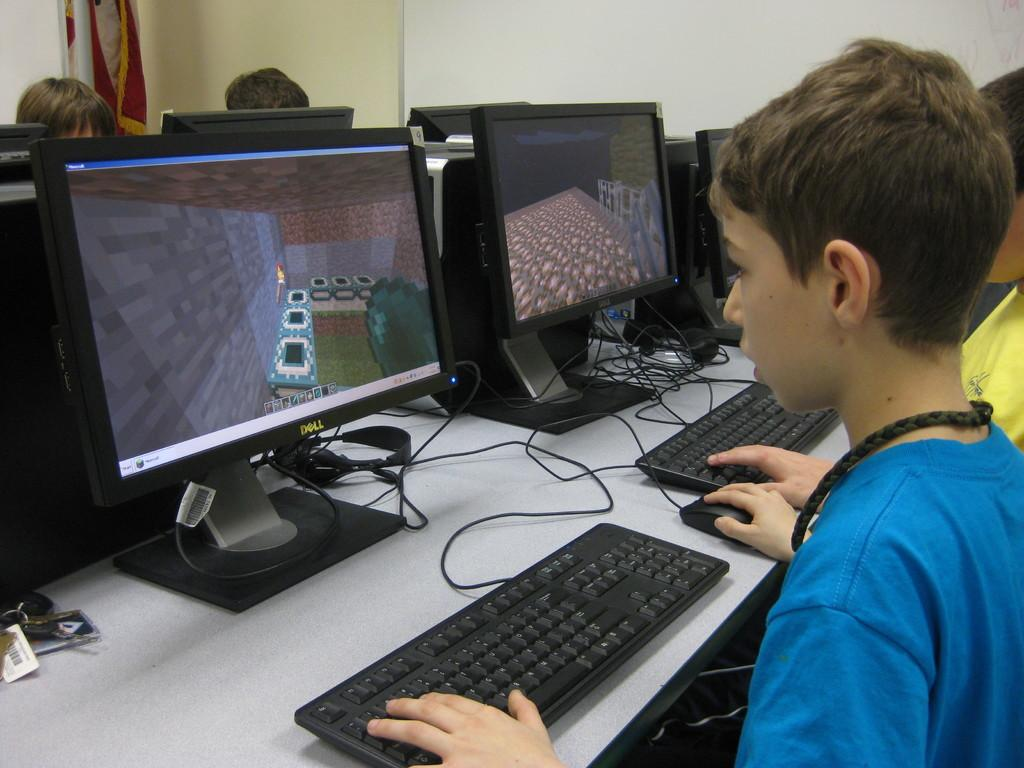Computer-keyboard: (292, 521, 730, 767), (633, 383, 841, 492)
Computer-monitor: (33, 128, 461, 552), (474, 104, 682, 441), (689, 115, 738, 333), (159, 105, 355, 130), (406, 101, 486, 150)
